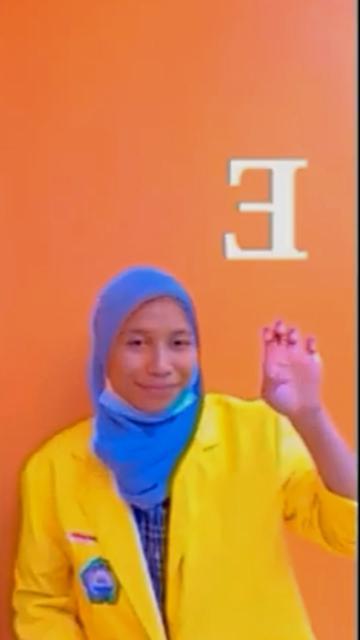E: (255, 320, 330, 426)
